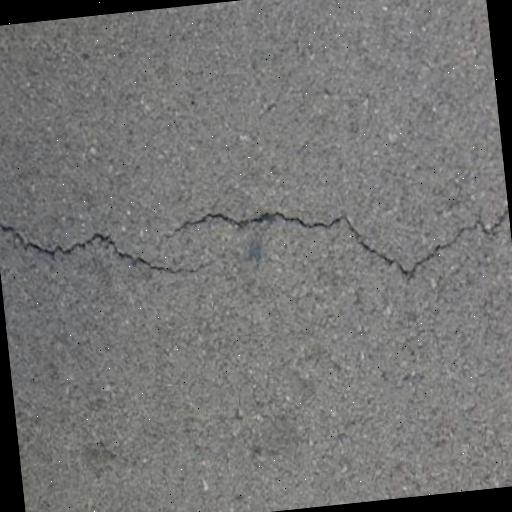spalling: (182, 177, 506, 304), (1, 208, 203, 290)
